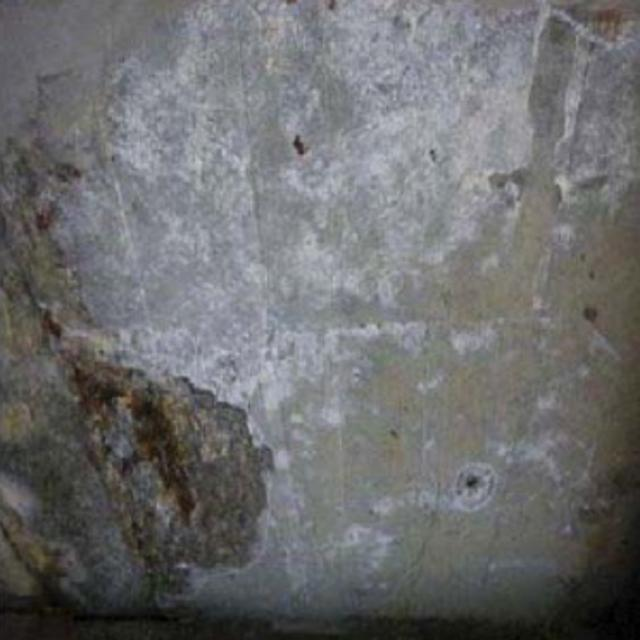spalling: (14, 150, 274, 626)
